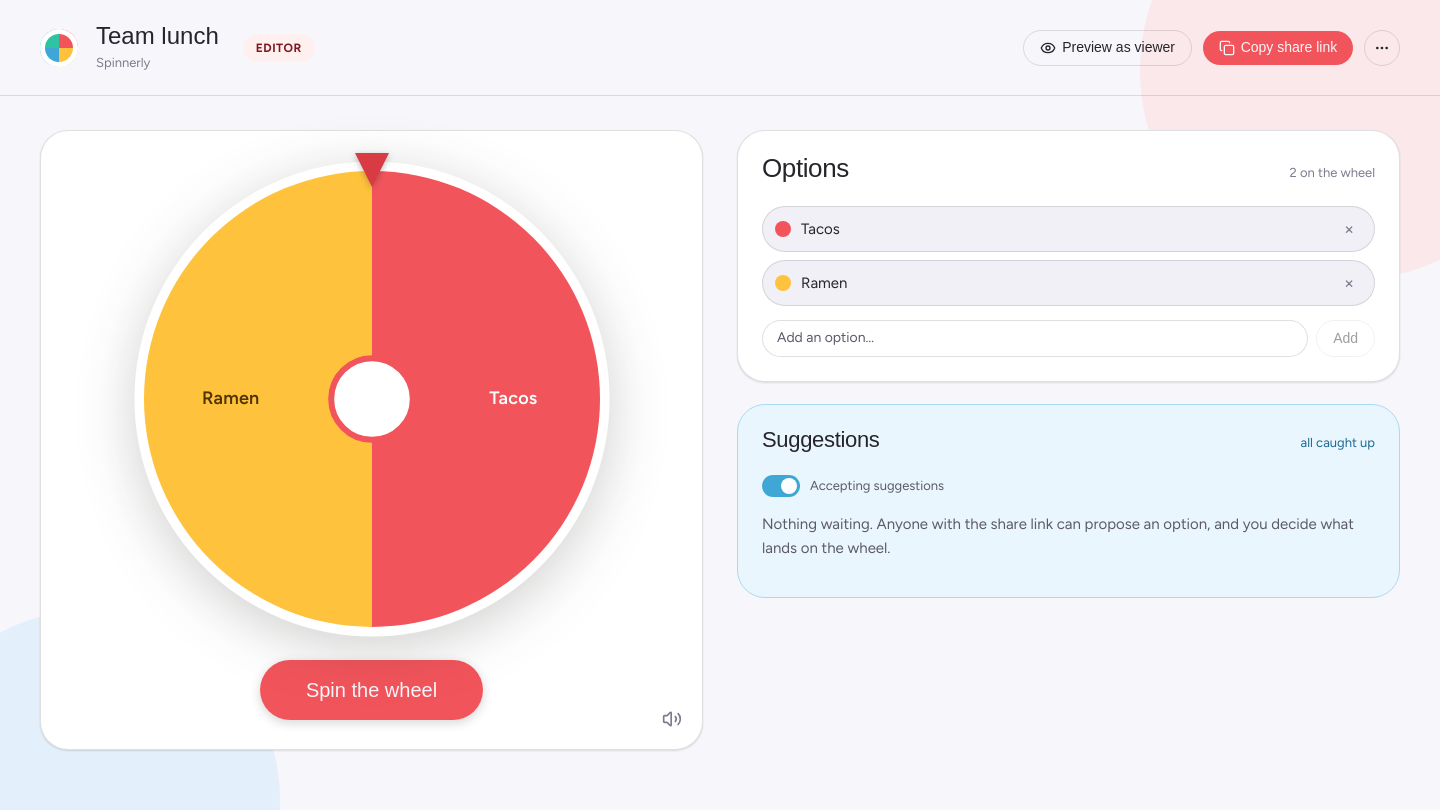
it: the header › offers Duplicate to an editor
Check: the header is shown, box [0,0,1439,96]
Click the button named "more wheel actions" at [1382, 48], box [1364,30,1400,66]
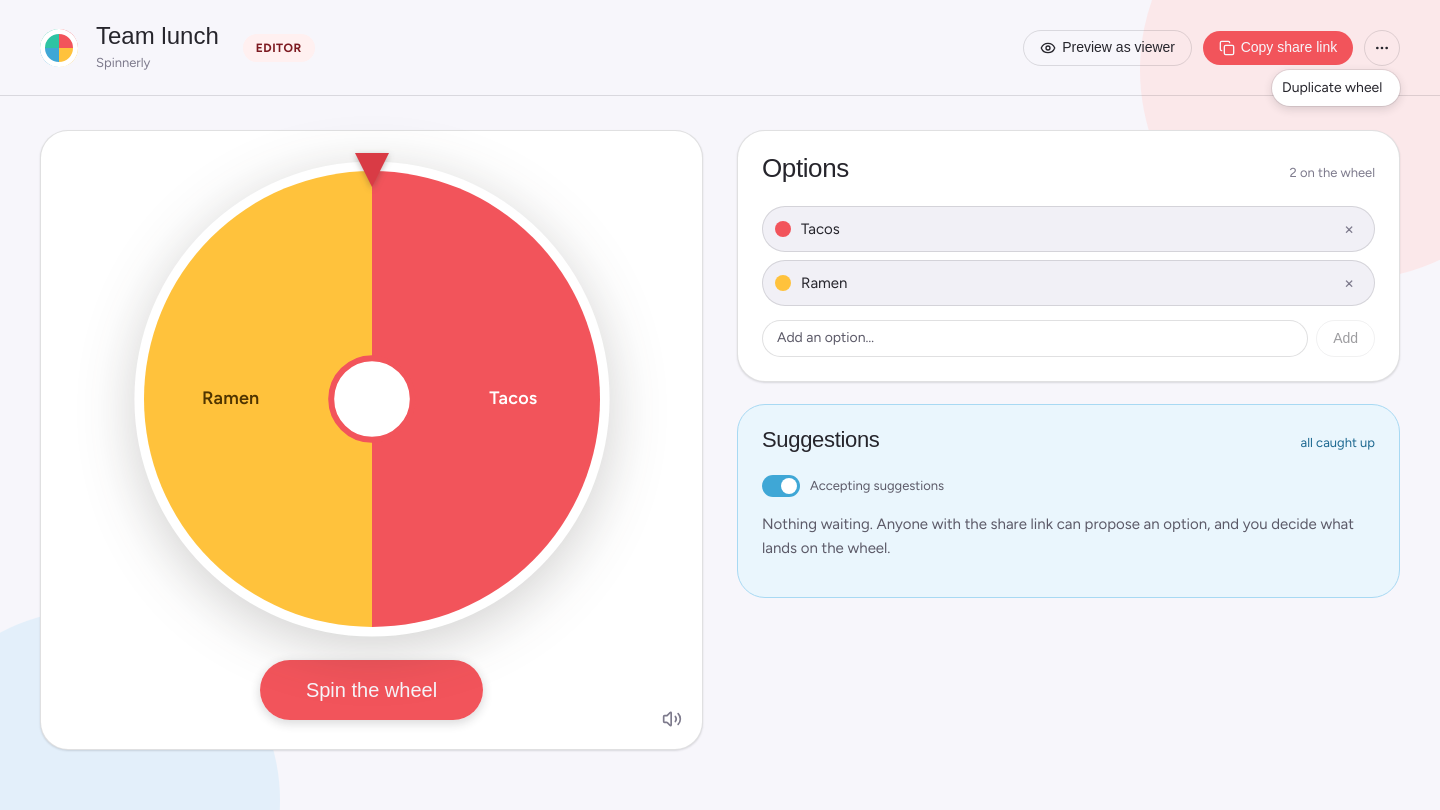
Check: the menu item "Duplicate wheel" is shown, box [1282,79,1382,96]
